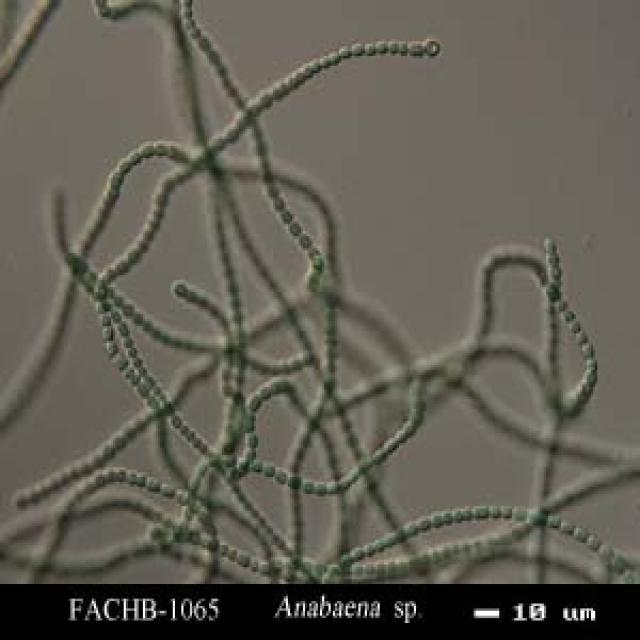Blue Green Algae: (408, 36, 427, 61), (245, 392, 262, 414), (126, 148, 145, 166), (273, 464, 288, 486), (280, 209, 294, 231), (326, 49, 342, 68), (580, 343, 600, 358), (271, 192, 284, 214), (298, 231, 312, 251), (386, 36, 401, 54), (544, 282, 559, 300), (300, 475, 314, 494), (160, 479, 175, 496), (246, 430, 260, 448), (350, 39, 363, 58), (561, 518, 574, 536), (100, 326, 115, 341), (243, 445, 258, 460), (258, 90, 271, 107), (288, 472, 301, 489), (324, 477, 337, 494), (561, 307, 576, 321), (574, 329, 589, 343), (574, 526, 589, 540), (120, 316, 130, 336), (104, 341, 118, 355), (488, 504, 502, 518), (243, 416, 256, 431), (548, 511, 561, 526), (138, 141, 154, 153), (262, 460, 273, 477), (100, 312, 113, 326), (145, 475, 158, 489), (376, 36, 386, 54), (339, 42, 350, 58), (314, 479, 324, 496), (431, 511, 442, 526), (228, 545, 239, 560), (292, 216, 301, 234), (365, 36, 373, 56), (399, 36, 405, 61), (474, 504, 486, 516), (587, 533, 597, 547), (384, 441, 399, 450), (117, 160, 128, 172), (134, 382, 145, 394), (239, 552, 250, 564), (503, 504, 512, 518), (309, 59, 320, 70), (444, 508, 450, 526), (352, 548, 363, 557)
